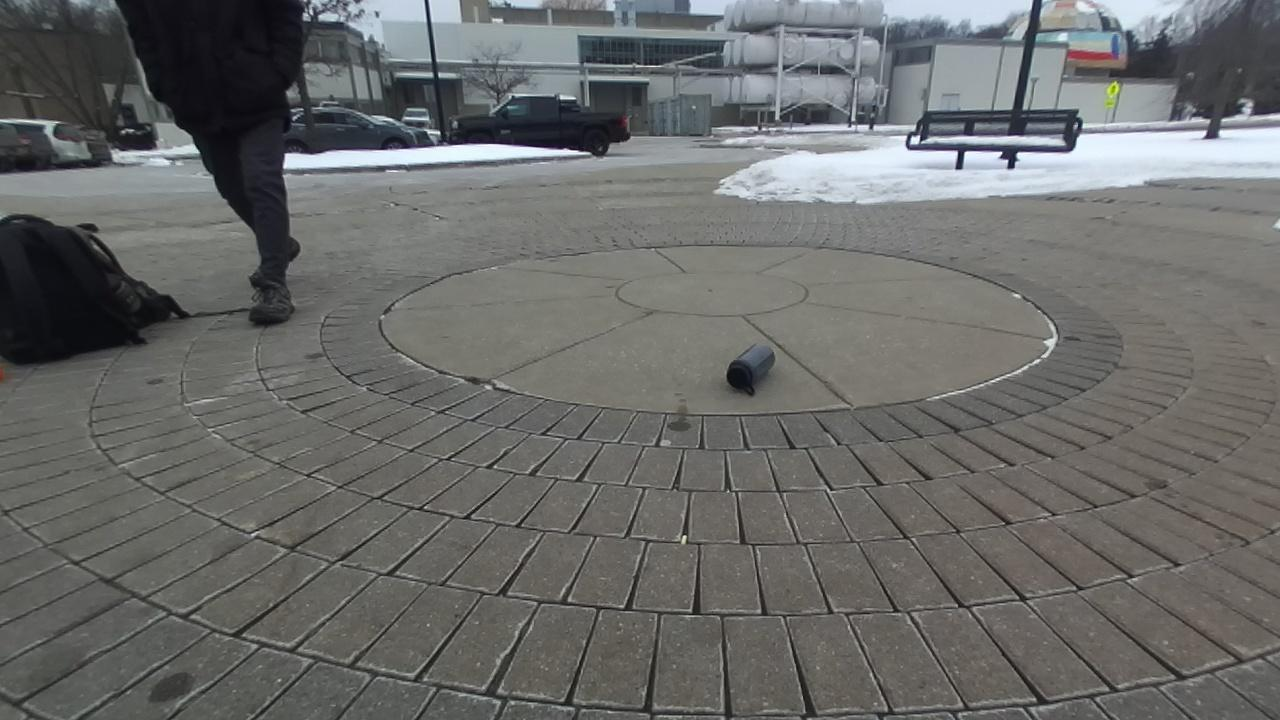bottle: (726, 344, 774, 395)
